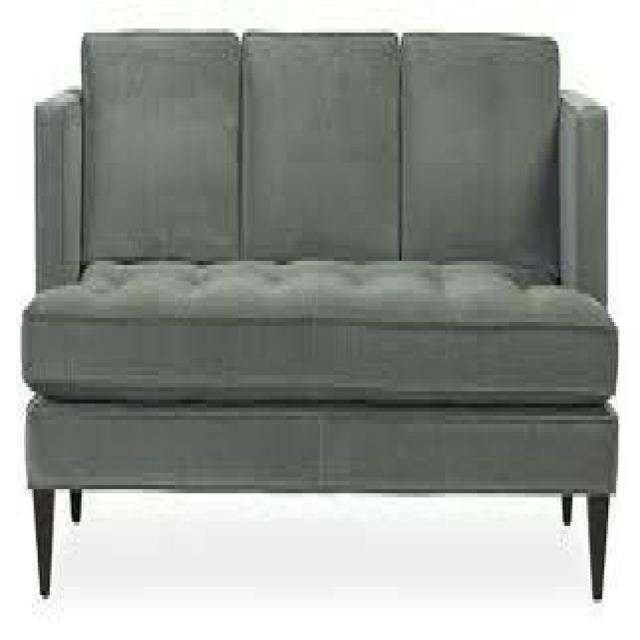sofa: (20, 24, 618, 600)
